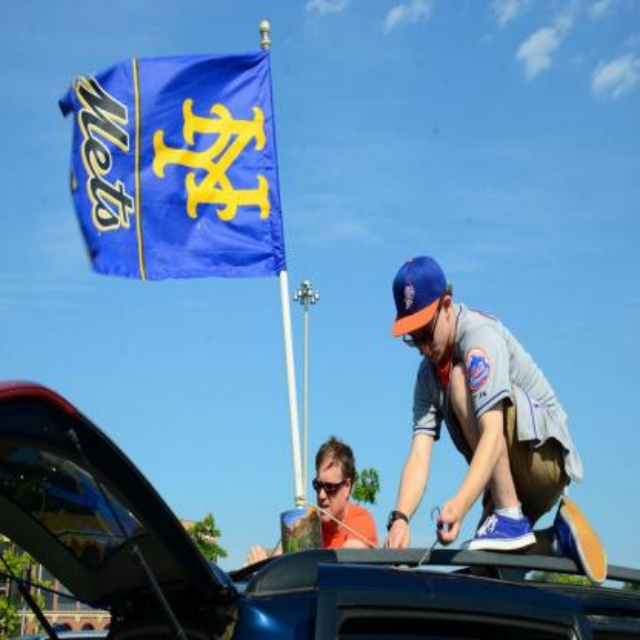Car: (0, 380, 640, 640)
